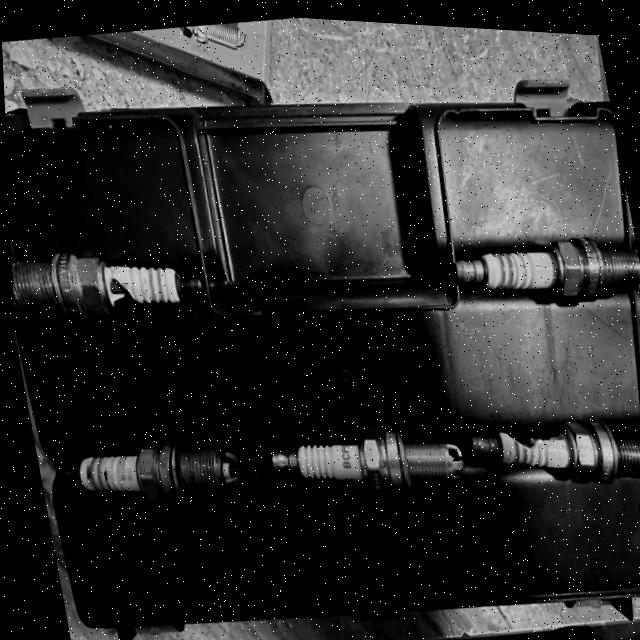damaged_spark-plug: (8, 226, 207, 356), (463, 390, 640, 509)
spark-plug: (249, 393, 480, 517), (427, 199, 640, 326), (41, 417, 257, 527)
